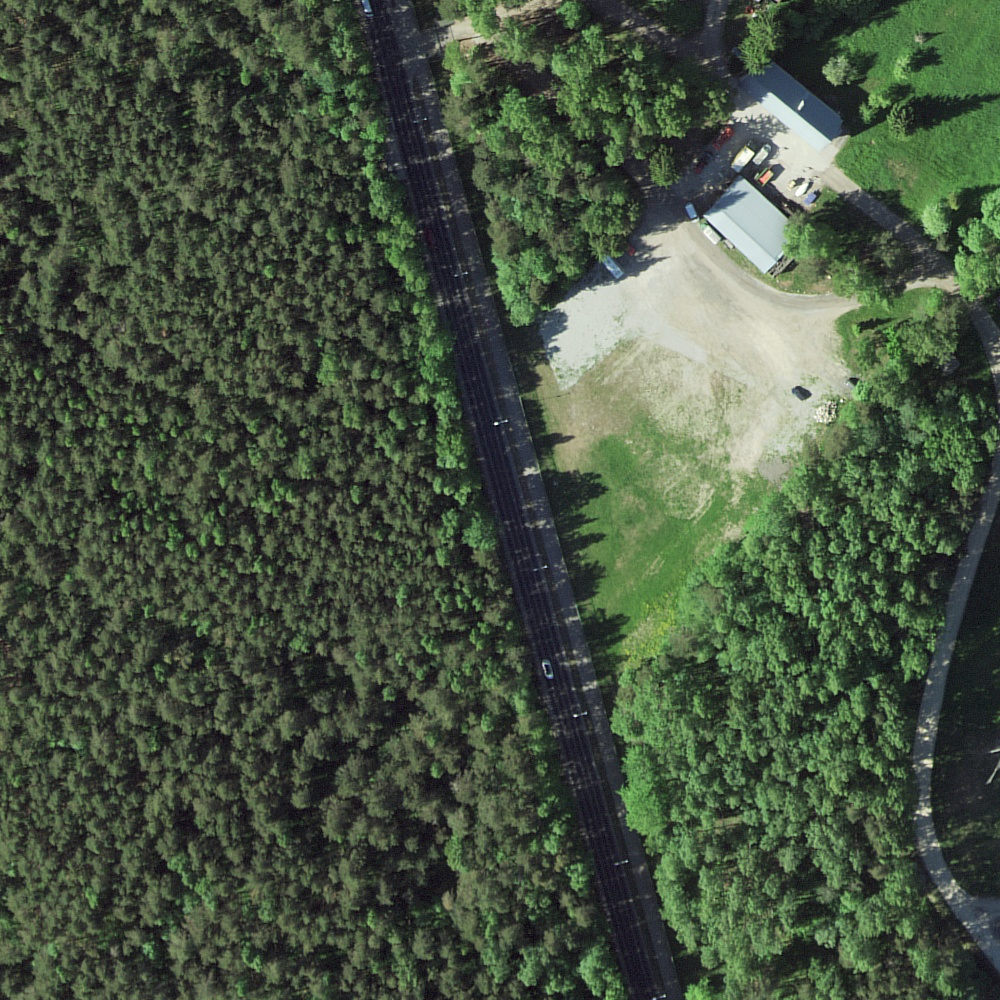building: (738, 57, 844, 152), (703, 176, 803, 274)
